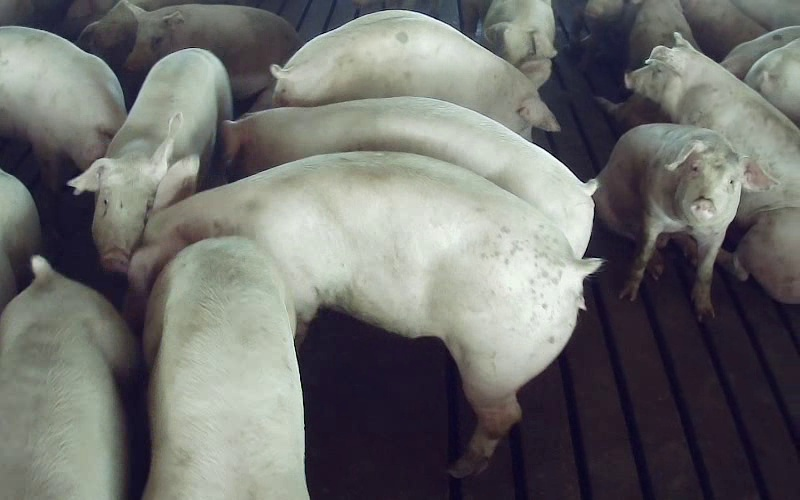pig: (223, 97, 593, 256), (626, 34, 799, 302), (144, 237, 307, 499), (271, 10, 558, 137), (69, 49, 231, 270), (594, 124, 775, 320), (0, 256, 134, 499), (125, 4, 300, 99), (460, 0, 556, 87)
